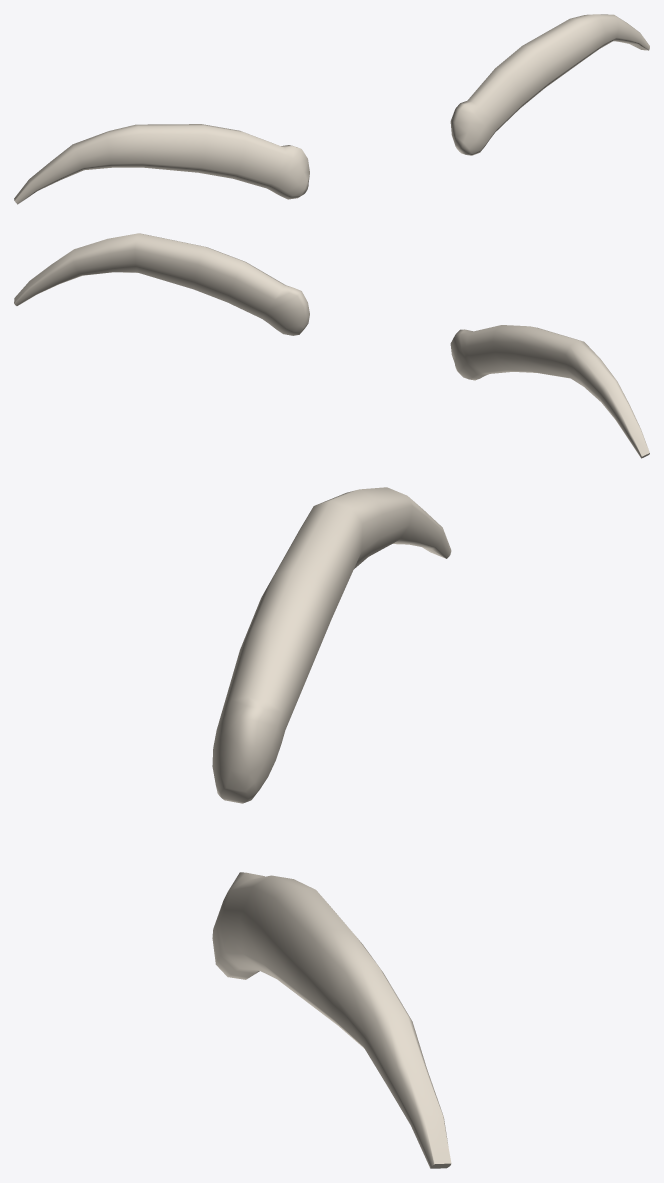
The model's file is Eyebrows_05_07.fbx.
3 views of the same model, one above another, from view 1: azimuth 30°, elevation 25°; view 2: azimuth 150°, elevation 25°; view 3: azimuth 270°, elevation 25° (orthographic). The views are drawn at different scales.
Parts seen in each view (by area): view 1: Eyebrows_05_07; view 2: Eyebrows_05_07; view 3: Eyebrows_05_07.
Part boxes in pixels (box(x1,y1,x2,y2)): Eyebrows_05_07: box(14, 14, 649, 204); Eyebrows_05_07: box(14, 233, 649, 458); Eyebrows_05_07: box(212, 487, 451, 1168).
Bounding box in the file's own units: 19.76 × 2.56 × 3.22.
